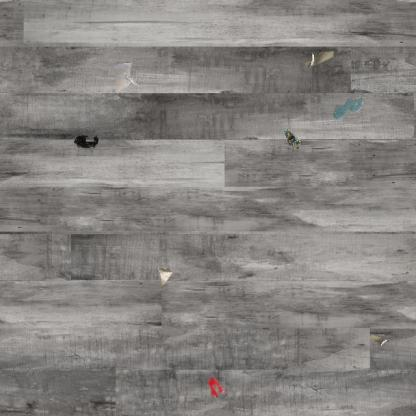dirty: (112, 60, 139, 93), (303, 50, 335, 70), (72, 133, 101, 150), (282, 129, 301, 149), (368, 333, 392, 348), (158, 266, 172, 286)
liquid: (332, 97, 364, 122), (207, 376, 227, 398)
